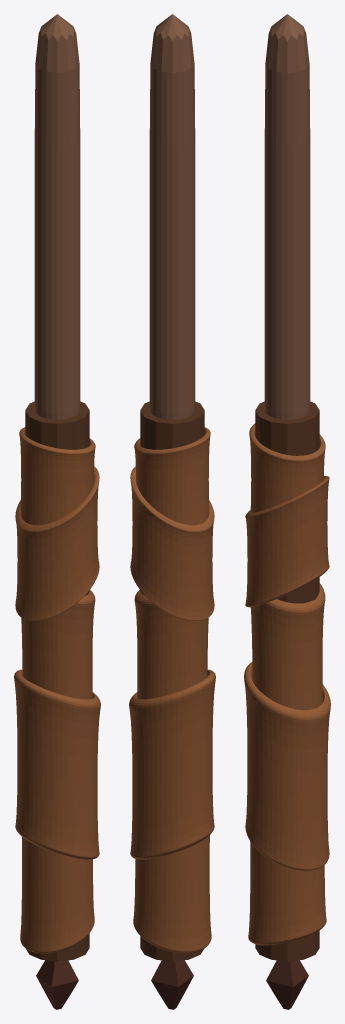
File: Wand 315.glb
3 renders of one model, left to right at view 1: azimuth 30°, elevation 25°; view 2: azimuth 150°, elevation 25°; view 3: azimuth 330°, elevation 25°, orthographic.
Visible parts, largest first — view 1: GeneratedWand; view 2: GeneratedWand; view 3: GeneratedWand.
Part boxes in pixels (box(x1,y1,x2,y2)): GeneratedWand: box(14, 14, 100, 1009); GeneratedWand: box(129, 14, 215, 1009); GeneratedWand: box(244, 14, 330, 1009).
Bounding box in the file's own units: 0.0408 × 0.5149 × 0.0408.
